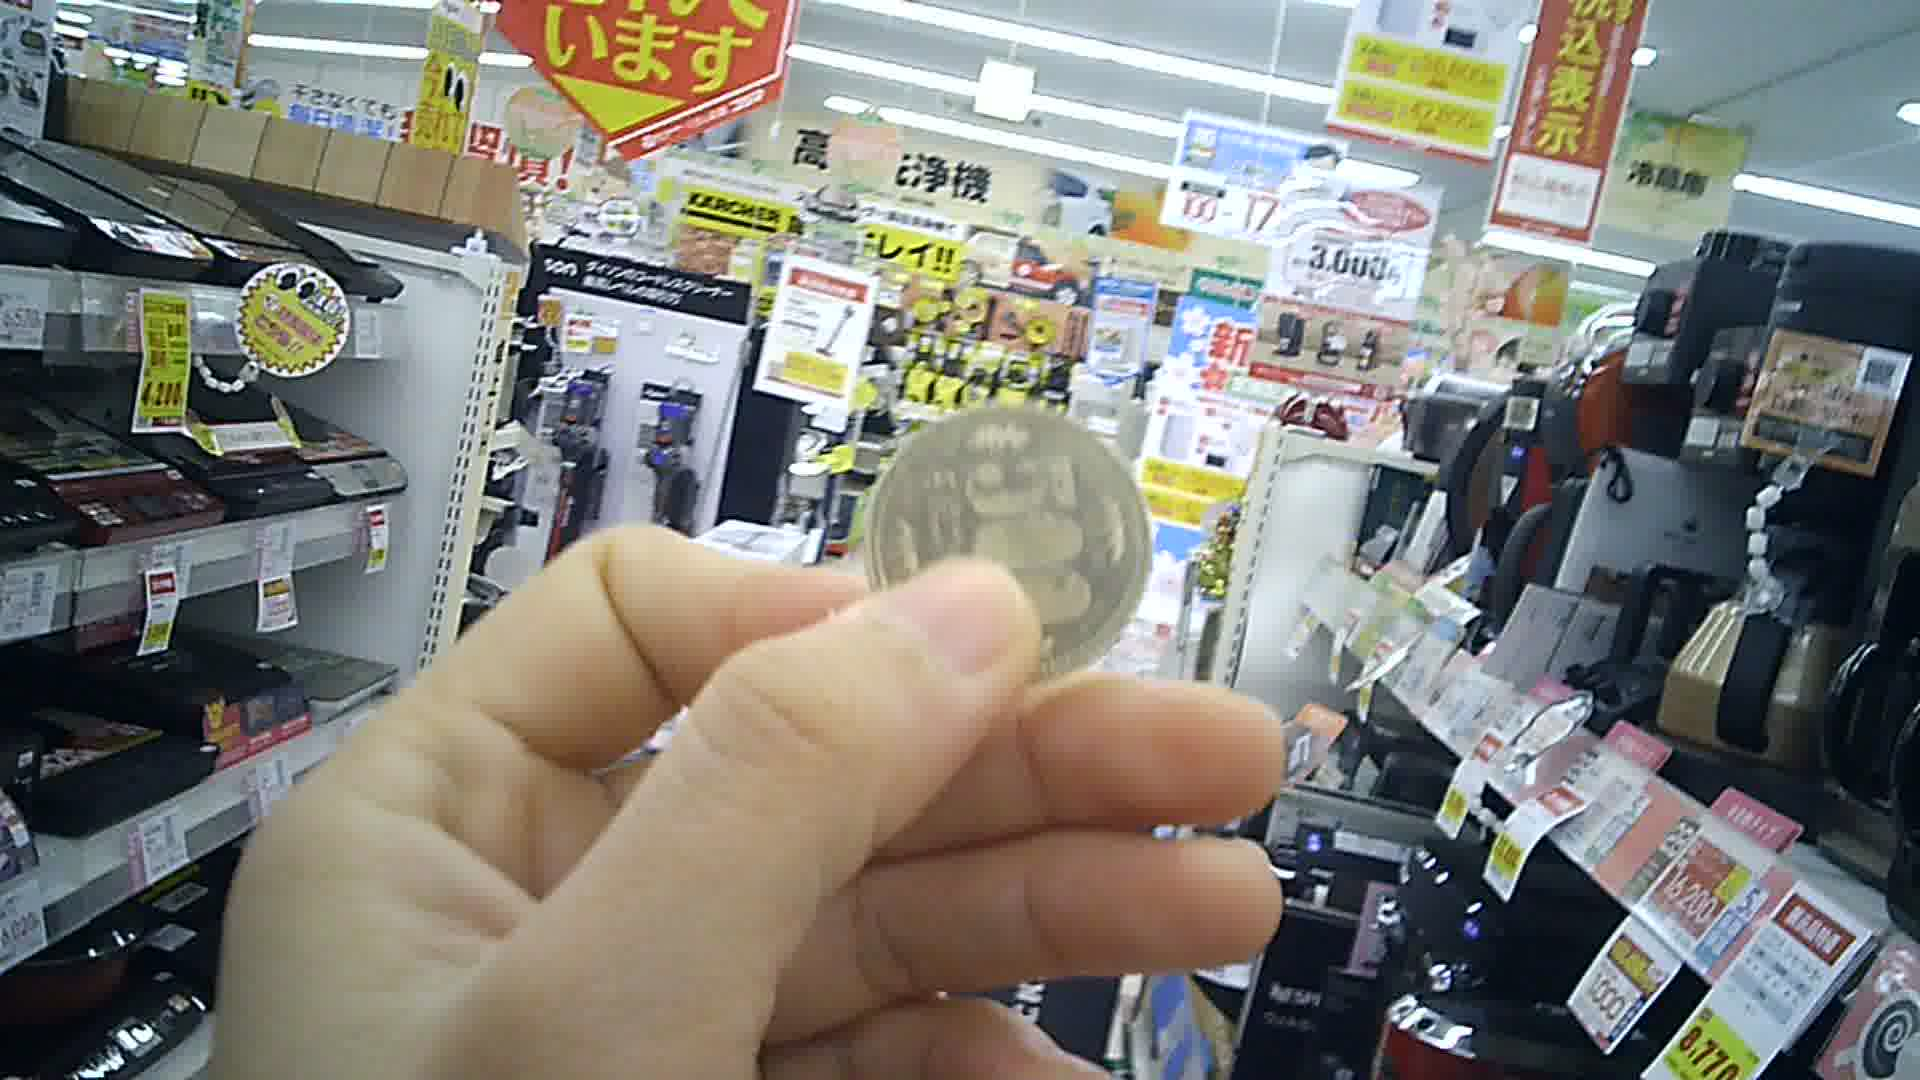500 Yen: (869, 400, 1153, 669)
